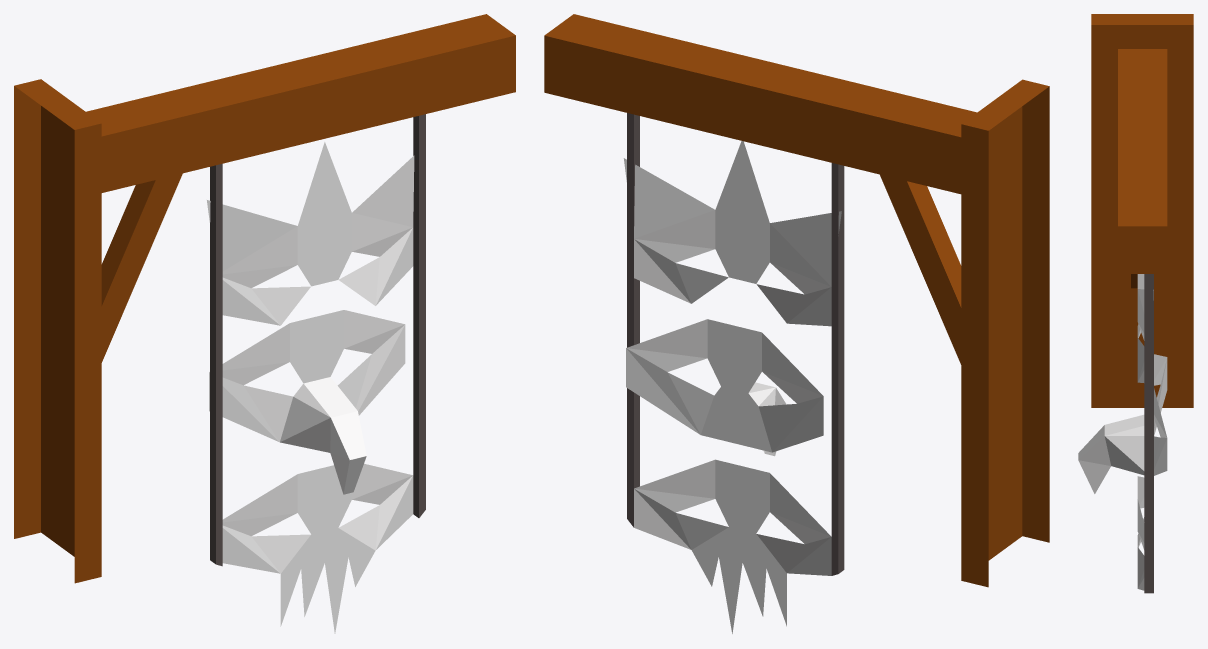
File: model_loc_1064_q.obj
3 views of the same model, side by side, from view 1: azimuth 30°, elevation 25°; view 2: azimuth 150°, elevation 25°; view 3: azimuth 270°, elevation 25° (orthographic). The views are drawn at different scales.
Parts seen in each view (by area): view 1: 1924; view 2: 1924; view 3: 1924.
Boxes of the visible parts, x1=… form: 1924: x1=14, y1=14, x2=515, y2=633; 1924: x1=544, y1=14, x2=1049, y2=633; 1924: x1=1078, y1=14, x2=1193, y2=593.
Bounding box in the file's own units: 135 × 168 × 35.
